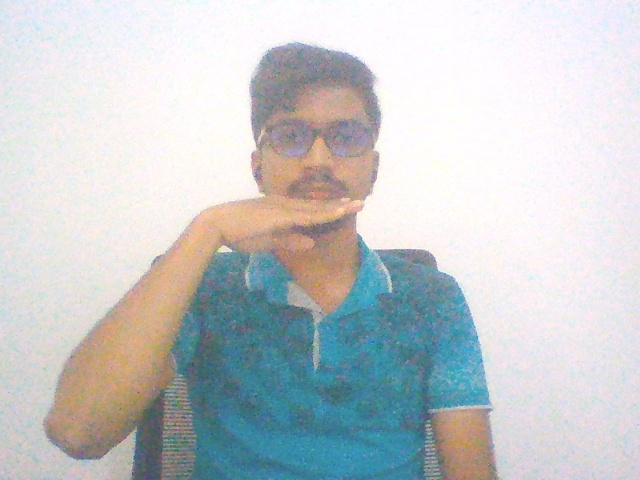elephant: (165, 170, 388, 277)
